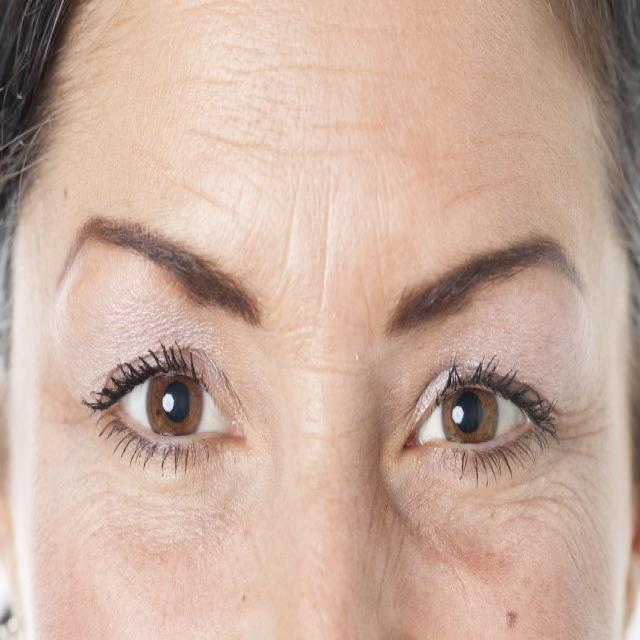dry: (166, 14, 526, 249), (59, 463, 274, 640), (389, 473, 587, 640)
